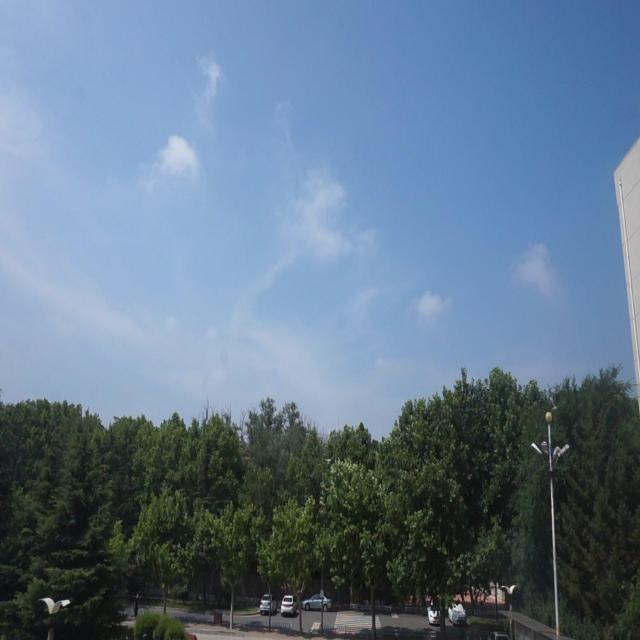UAV: (326, 459, 332, 463)
